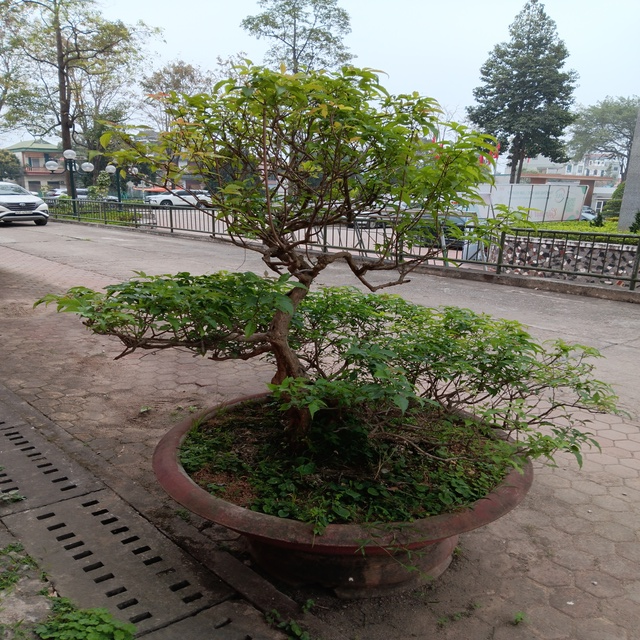caycanh: (116, 81, 602, 594)
